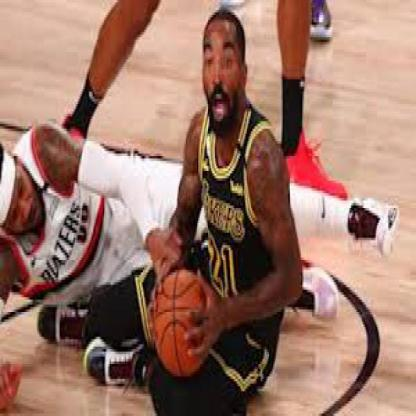basketball: (150, 272, 212, 376)
